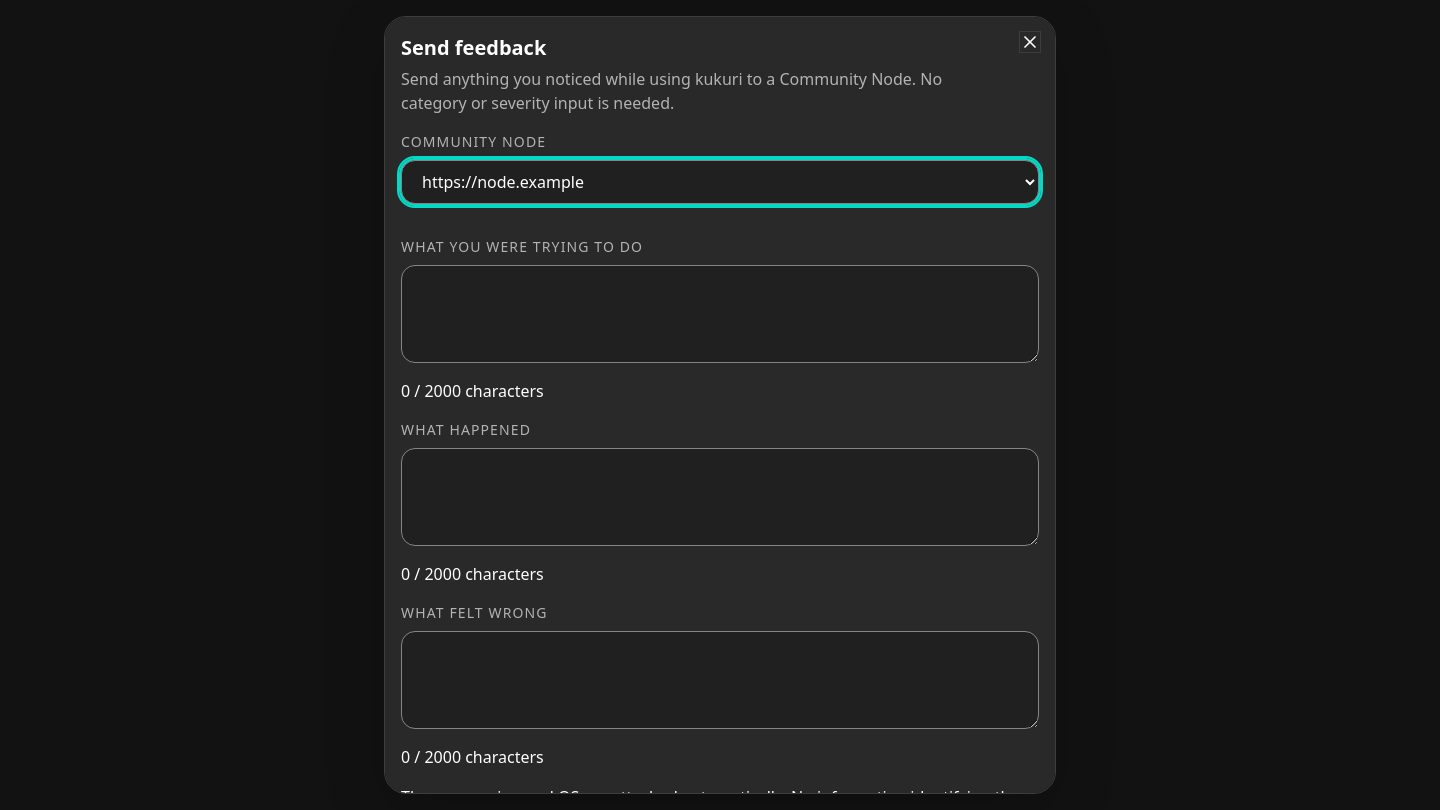
Test: retains the existing AUTH_REQUIRED notice without automatic resubmission
The image size is (1440, 810).
Type "create a post" into the text box labelled "What you were trying to do".
click(720, 314); type("create a post")  # box [401,265,1039,363]
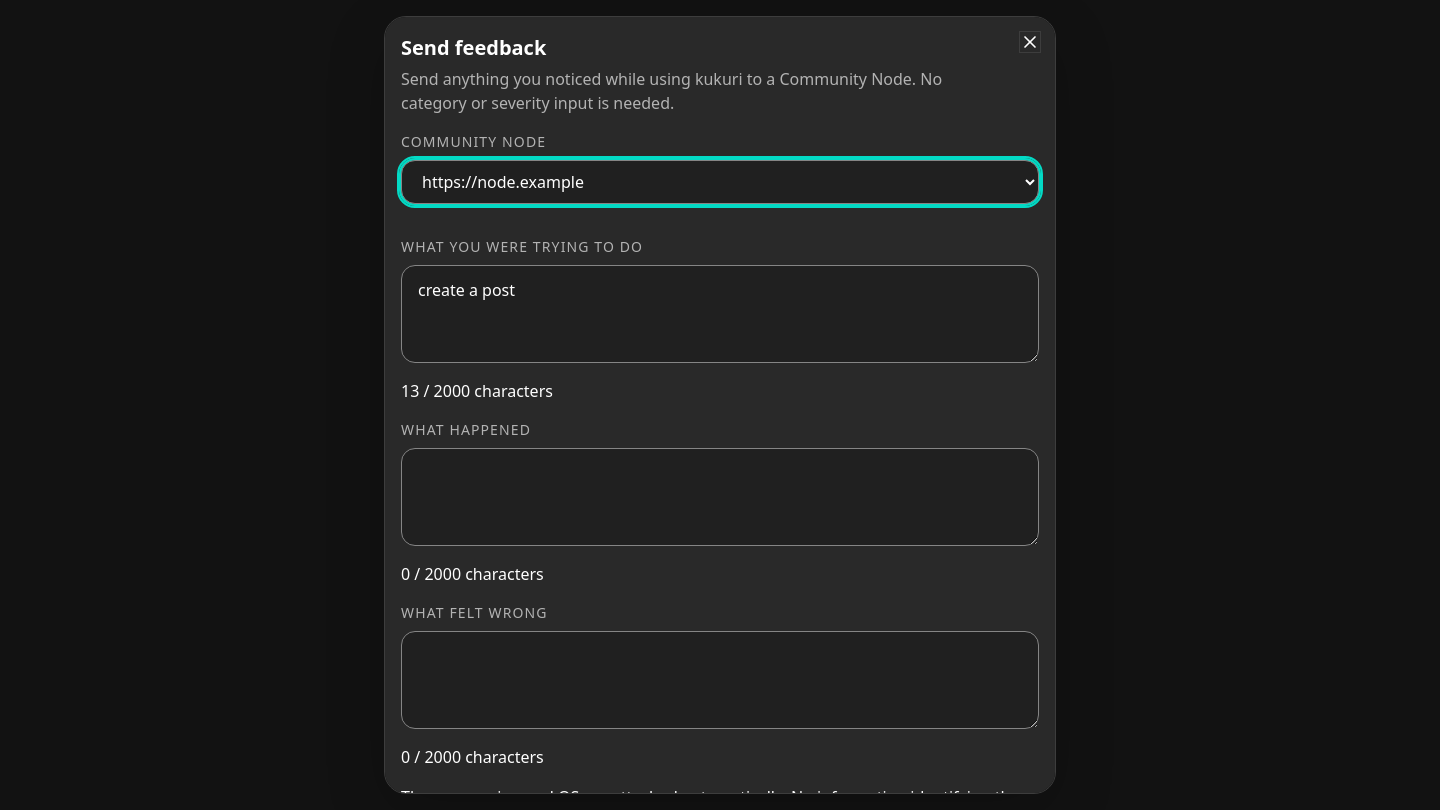
Type "nothing happened after pressing send" into the text box labelled "What happened".
click(720, 497); type("nothing happened after pressing send")  # box [401,448,1039,546]
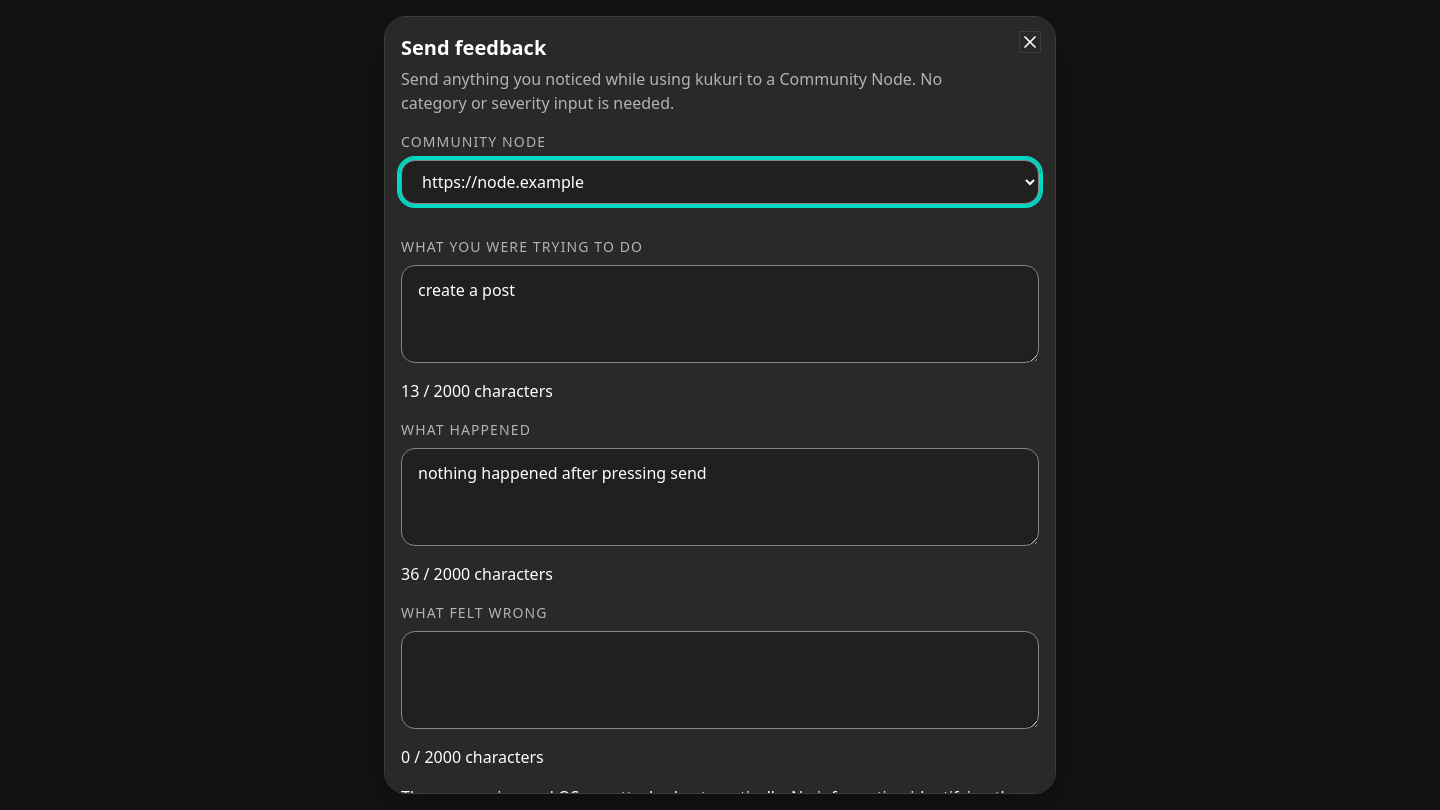
Type "no error and no success message" into the text box labelled "What felt wrong".
click(720, 680); type("no error and no success message")  # box [401,631,1039,729]
(page scrolled)
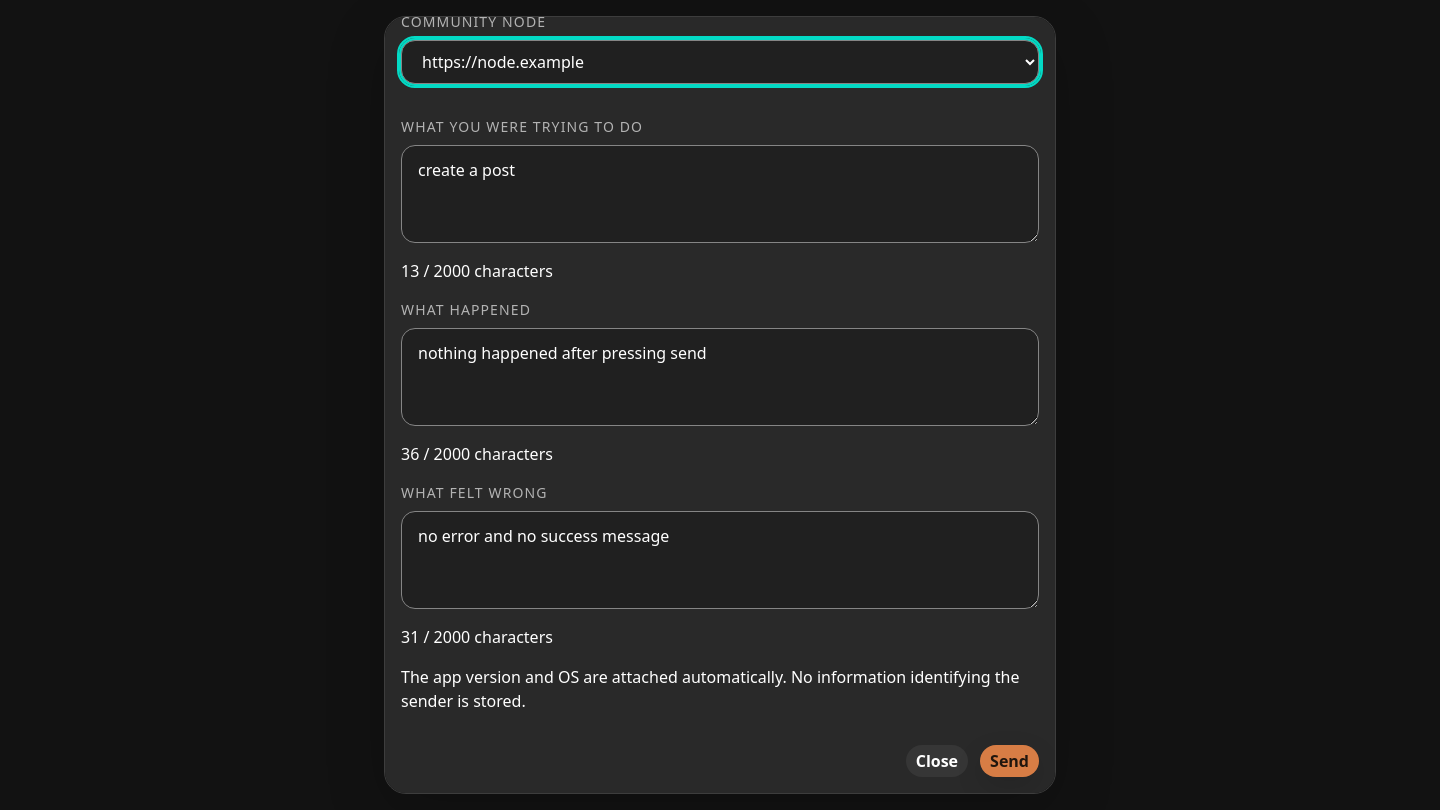
Click the button "Send".
click(1010, 761)  # box [980,745,1039,777]
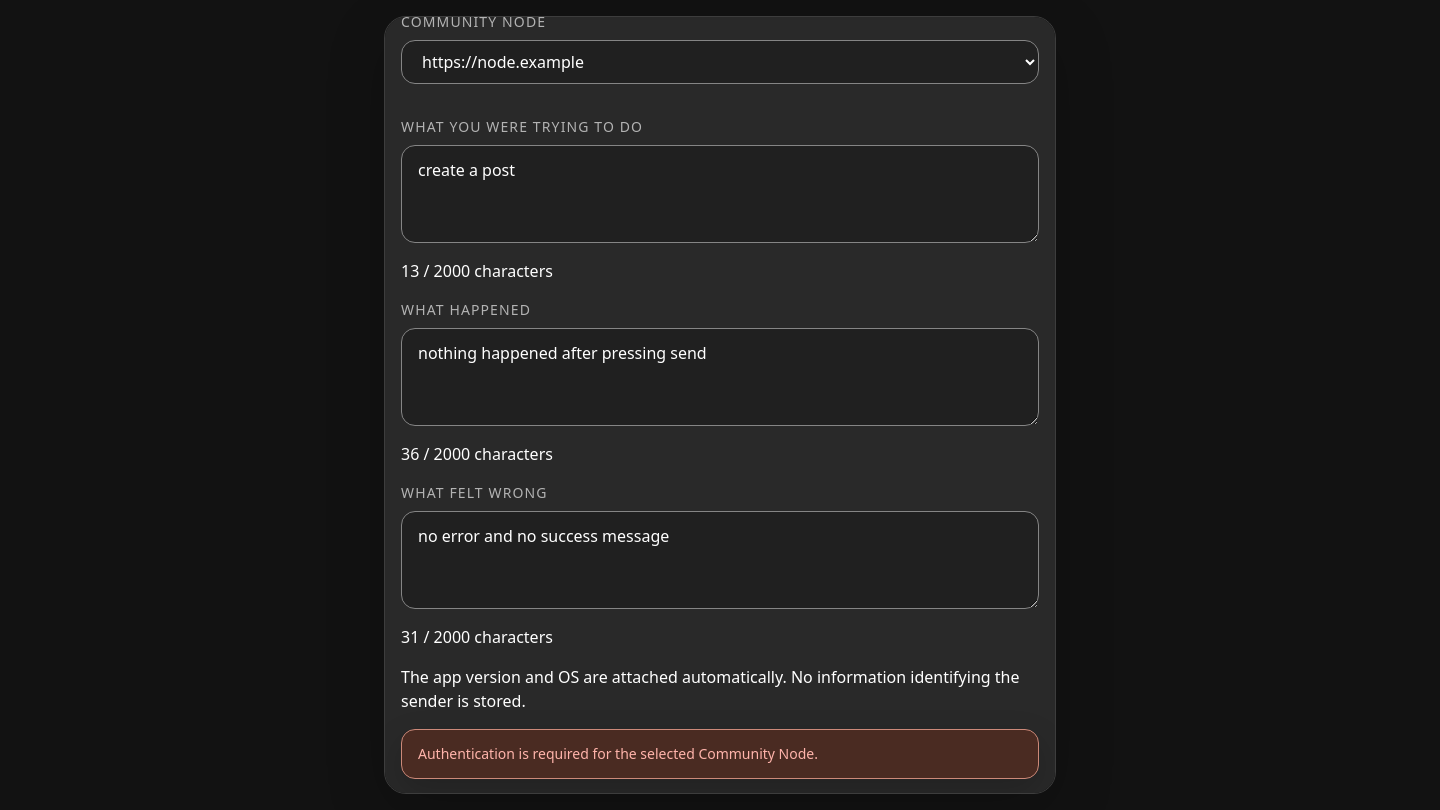
Check: the text "Authentication is required for the selected Community Node." is shown, box [401,729,1039,779]
